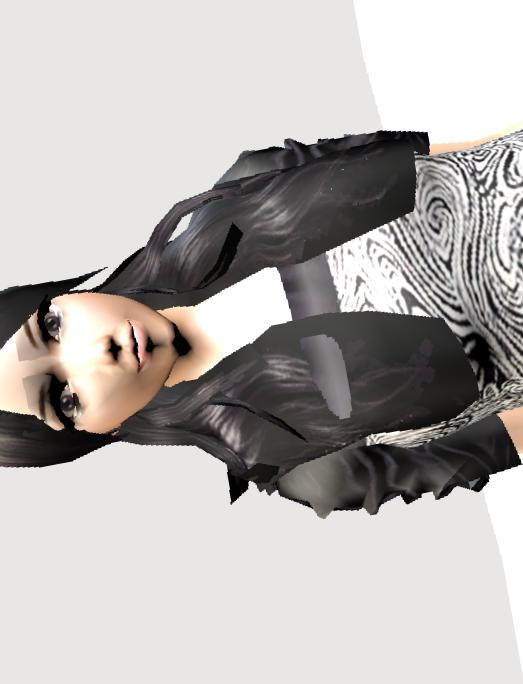clip: (292, 329, 358, 389)
